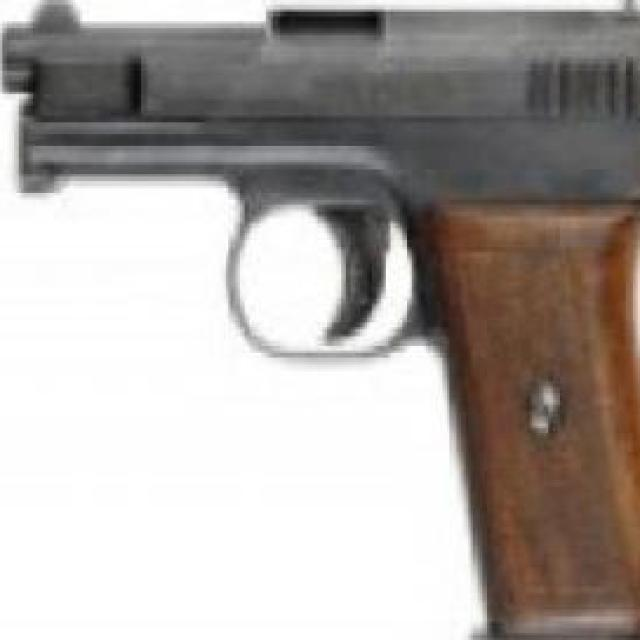pistol: (12, 0, 640, 626)
